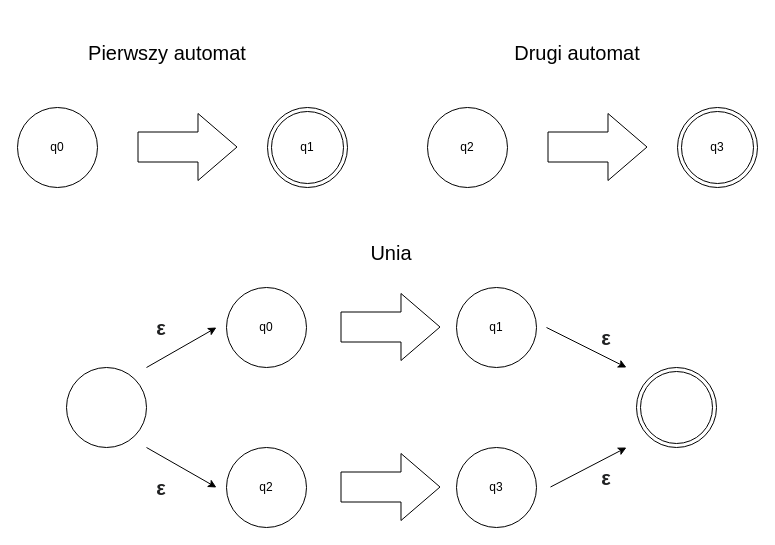
The diagram is 775 pixels wide and 545 high, and some of its shapes have lost their labels. The shapes that lost their labels are listed below. From the top down, each one's box as (x1, y1, x2, y2) in pixels, then its label:
(66, 366, 146, 448): q4
(636, 366, 716, 448): q5
